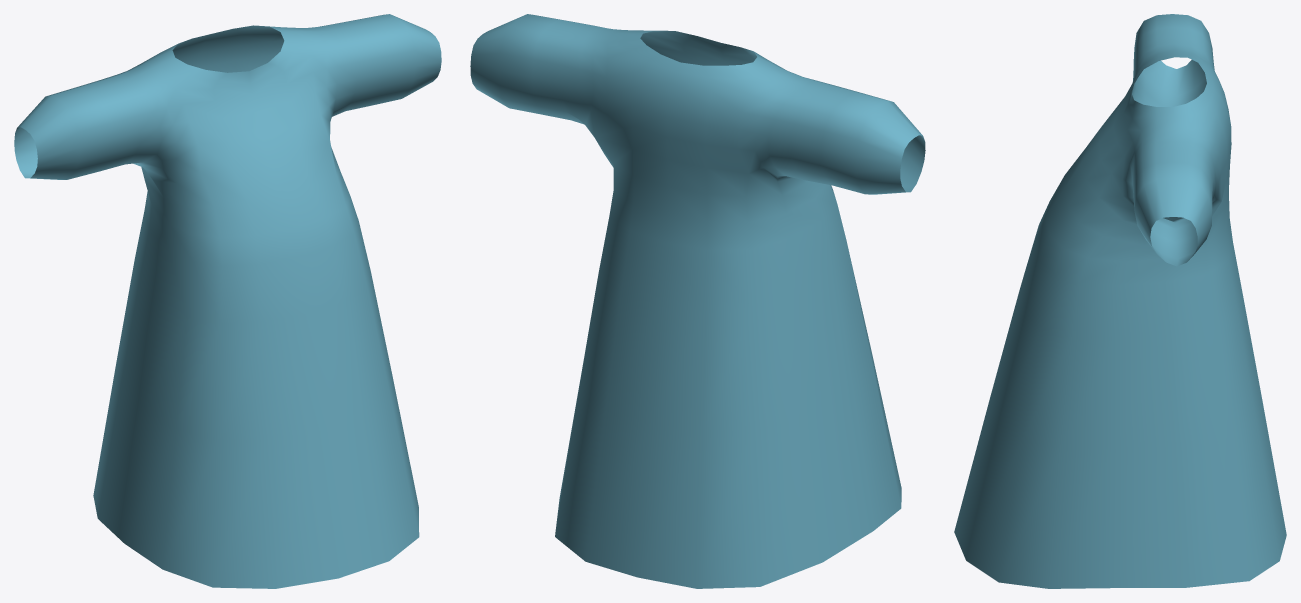
File: DRESS_TPOSE.fbx
3 renders of one model, left to right at view 1: azimuth 30°, elevation 25°; view 2: azimuth 150°, elevation 25°; view 3: azimuth 270°, elevation 25°, orthographic. The views are drawn at different scales.
Visible parts, largest first — view 1: Robe; view 2: Robe; view 3: Robe.
Part boxes in pixels (x1=…): Robe: x1=14, y1=14, x2=441, y2=588; Robe: x1=470, y1=14, x2=925, y2=588; Robe: x1=954, y1=14, x2=1286, y2=588.
Bounding box in the file's own units: 7.82 × 8.45 × 5.59.
